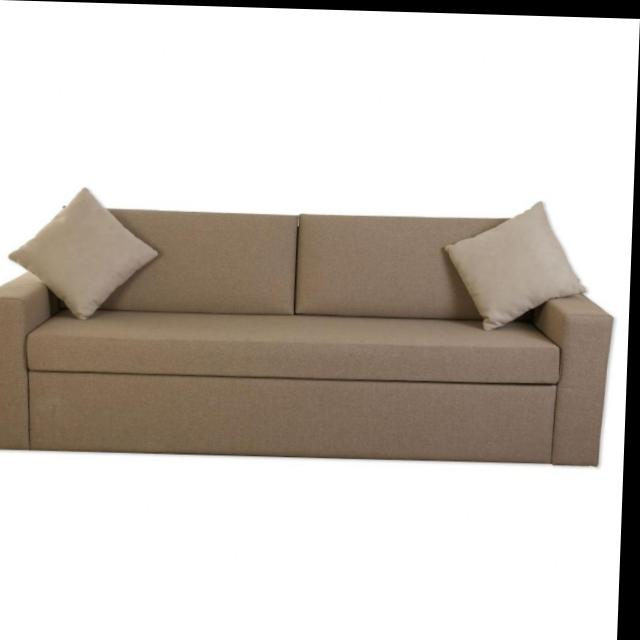Sofa: (0, 192, 622, 466)
